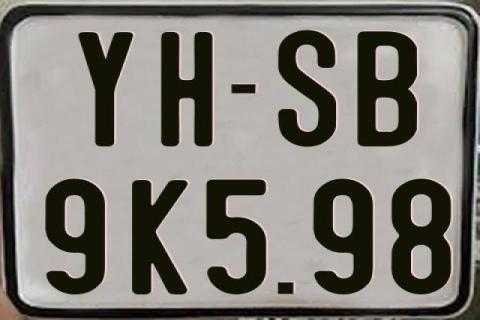0: (310, 177, 375, 297), (389, 176, 454, 294), (44, 178, 110, 294), (204, 179, 269, 295)
B: (357, 31, 423, 147)
H: (160, 32, 215, 149)
K: (132, 179, 192, 296)
S: (276, 27, 339, 148)
Y: (75, 31, 131, 148)
